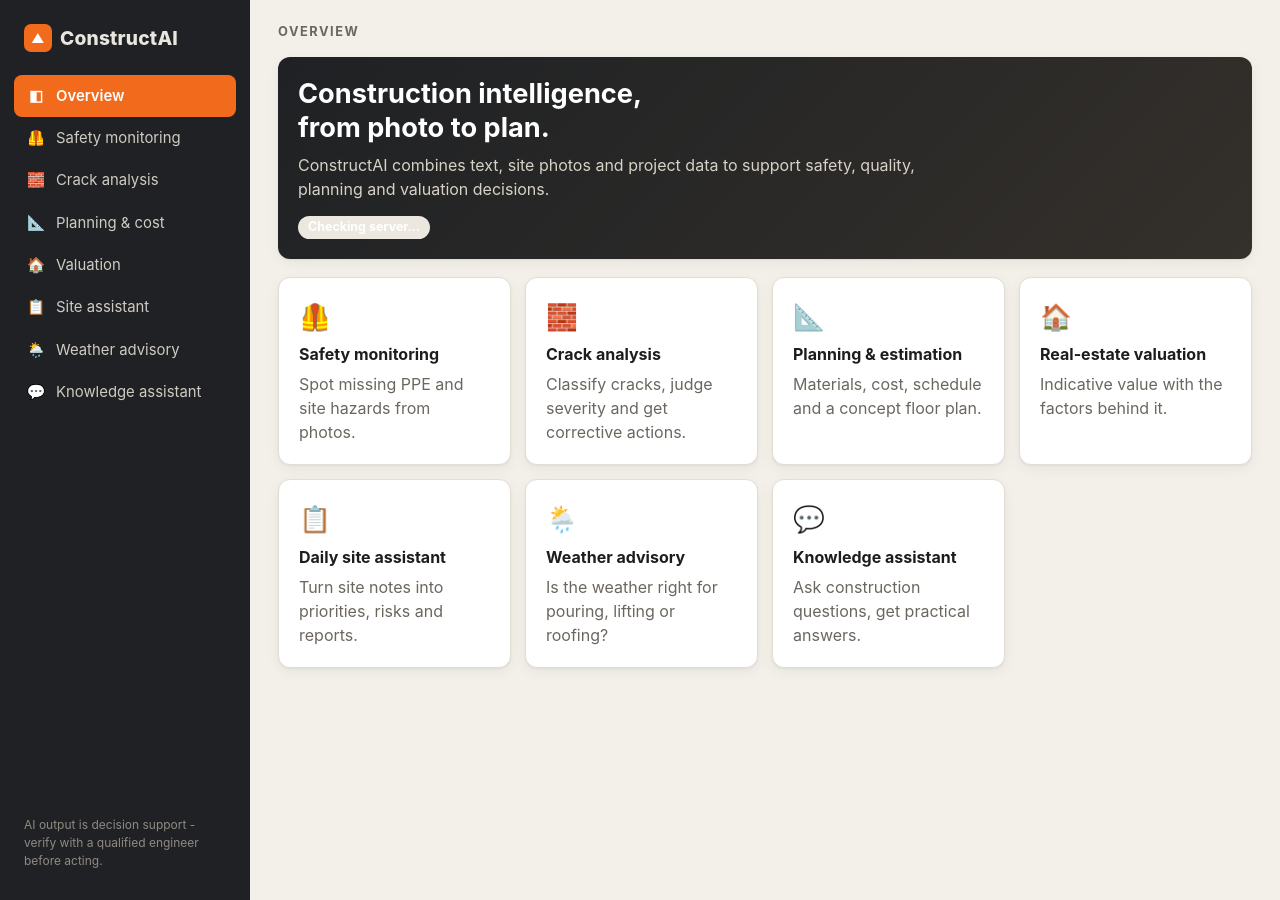
it: knowledge module › answers a question and keeps the conversation
Click the button "💬 Knowledge assistant" at (125, 392), box [14,371,236,413]
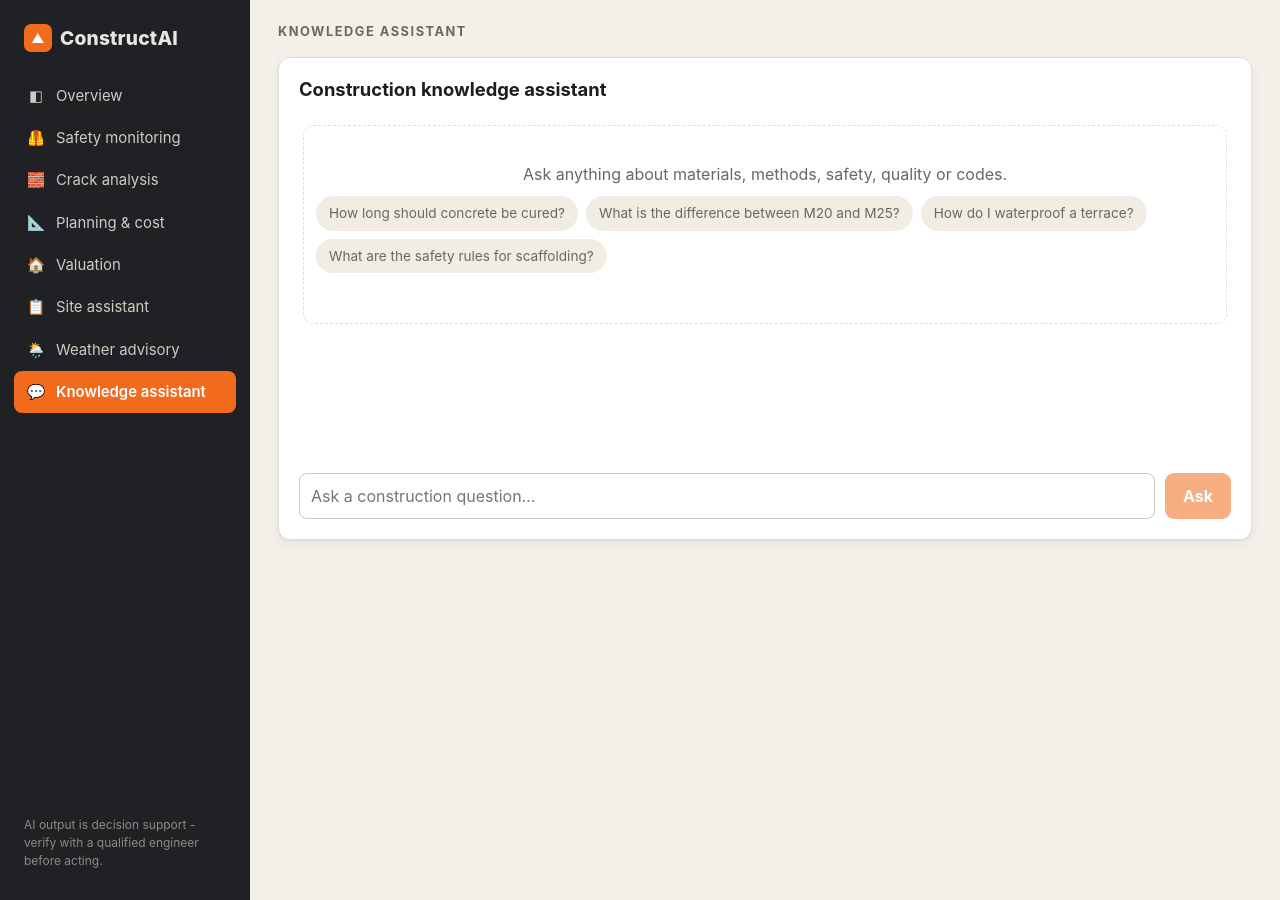
Type "How long to cure?" into the field named "Your question" at (727, 496), box [299,473,1155,519]
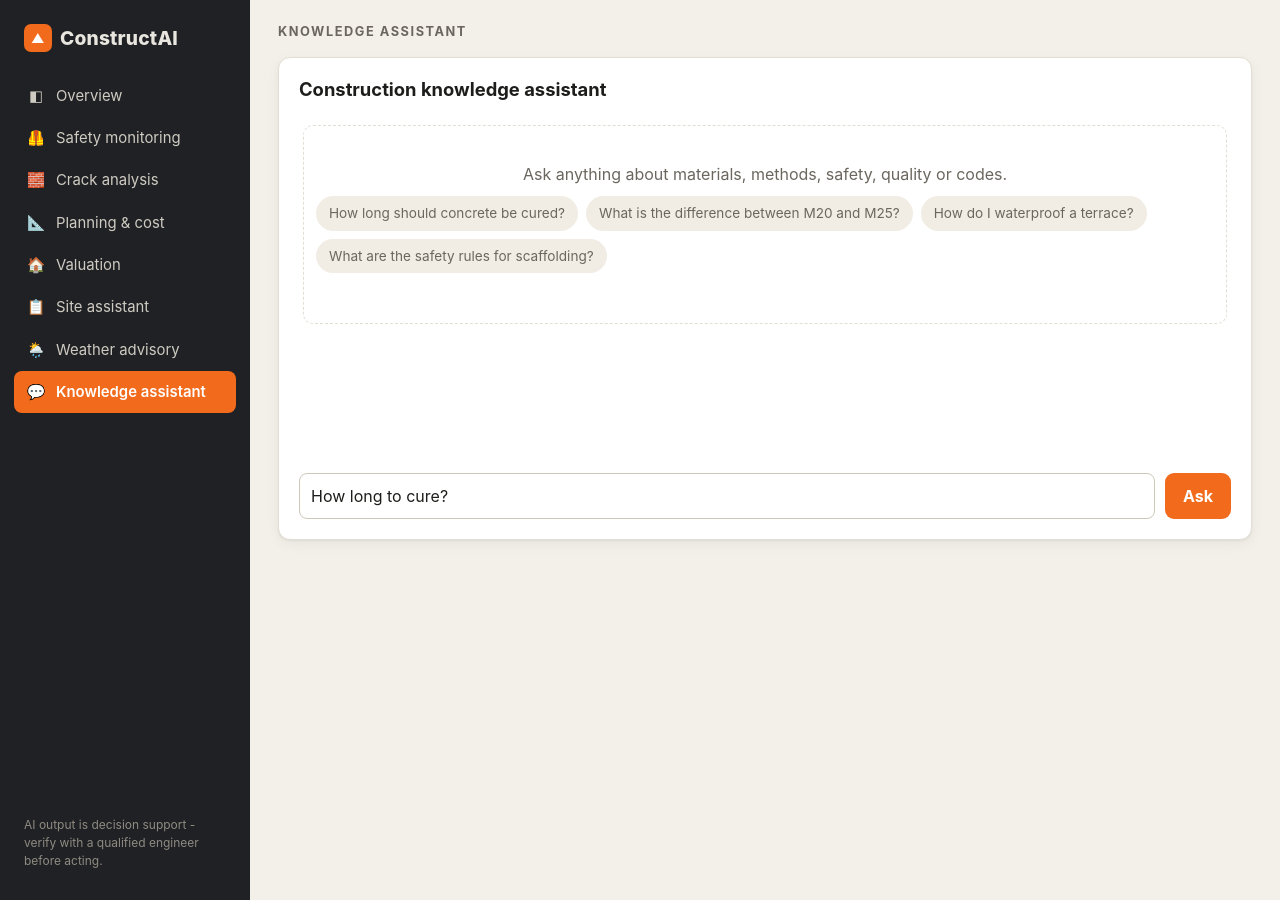
Click the button "Ask" at (1198, 496), box [1165,473,1231,519]
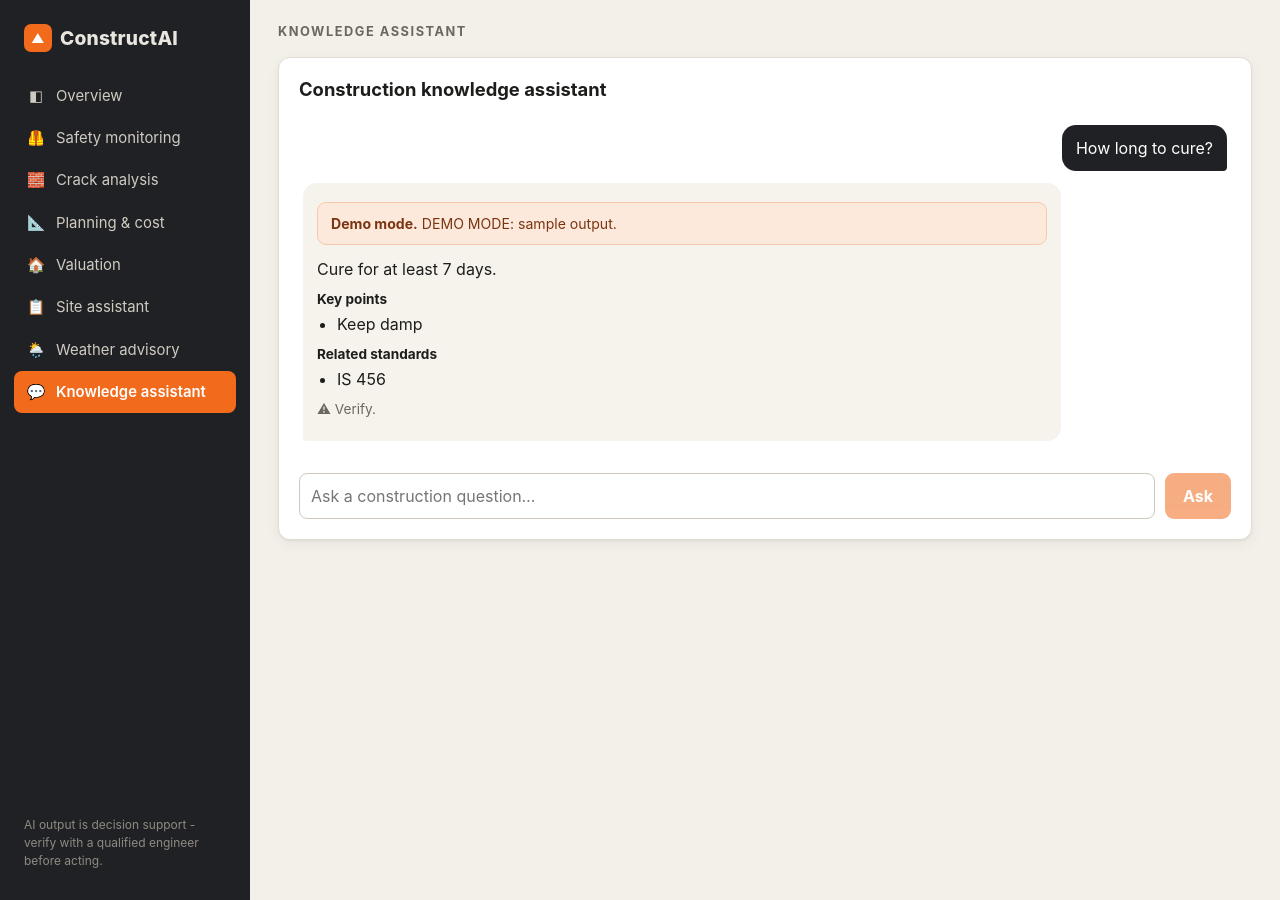
Now the text "Cure for at least 7 days." is shown, box [317,259,497,279]
Now the text "How long to cure?" is shown, box [1062,125,1227,171]
Now the list item "IS 456" is shown, box [337,369,386,389]
